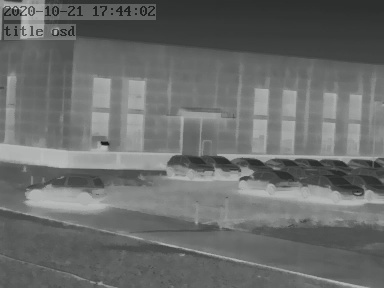vehicle: (22, 173, 112, 207), (238, 169, 302, 191), (308, 173, 358, 200), (165, 153, 213, 179), (347, 174, 384, 203), (204, 154, 242, 177), (233, 154, 270, 172), (347, 156, 380, 171), (262, 155, 295, 169), (316, 156, 345, 170), (297, 156, 326, 169)
